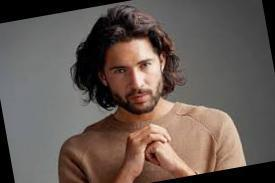Sober: (107, 43, 162, 107)
